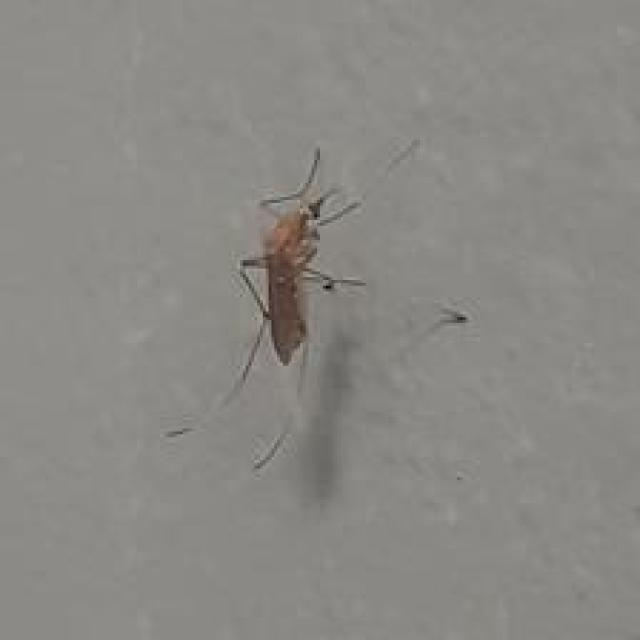Culex: (165, 146, 368, 471)
